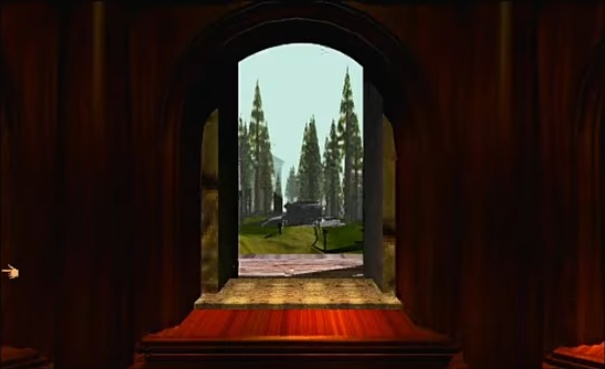Pointer: (0, 261, 21, 281)
